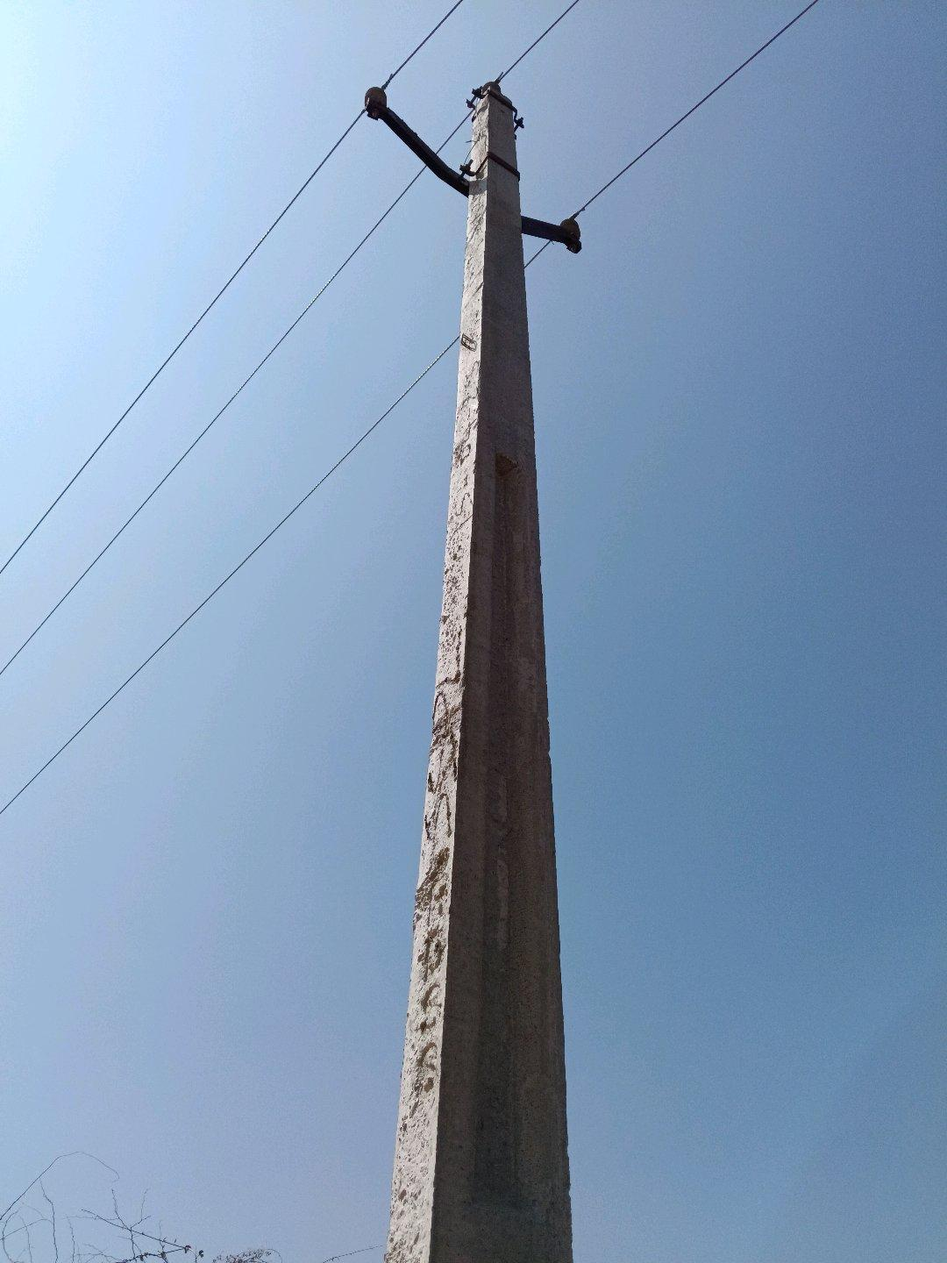{"0" "insulator", "1" "pole", "2" "crossarm", "3" "conductor", "4" "street_: (385, 84, 570, 1262), (395, 121, 464, 189), (537, 220, 579, 253), (365, 89, 394, 127), (318, 475, 324, 486), (532, 224, 536, 229), (530, 232, 532, 234), (784, 27, 786, 29)
